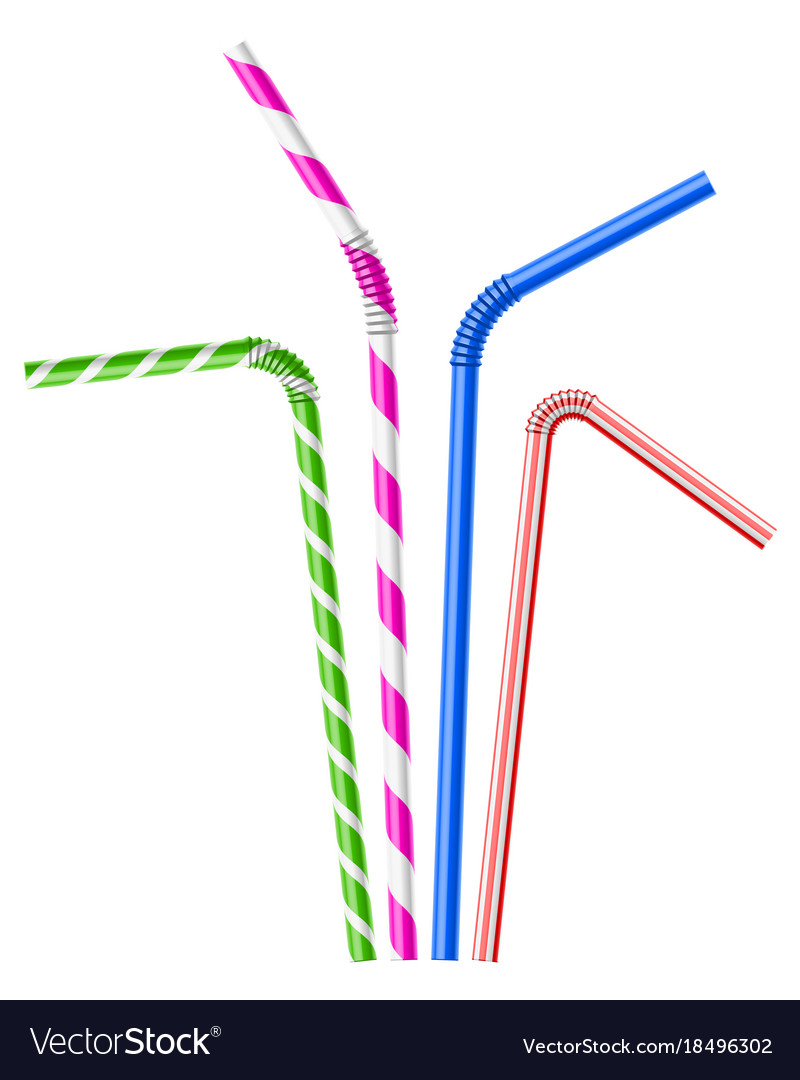Drinking Straw: (215, 33, 424, 964), (468, 385, 781, 968)
